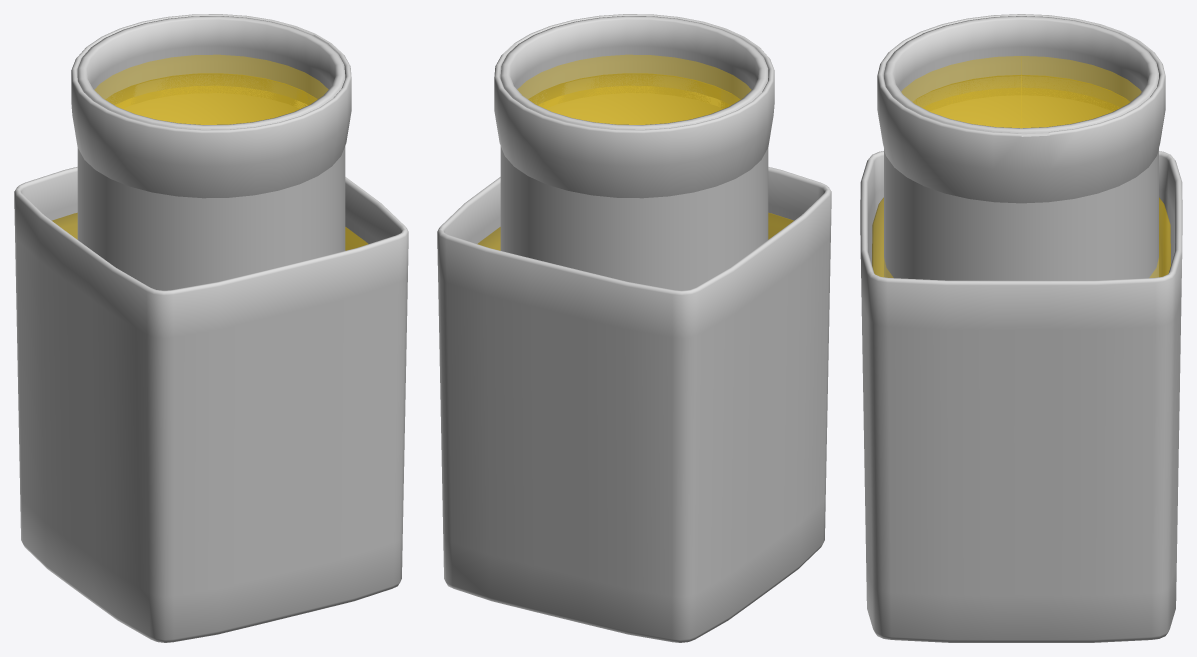
Rendered from cocktail.glb.
The picture shows the model from 3 angles, left to right: view 1: azimuth 30°, elevation 25°; view 2: azimuth 150°, elevation 25°; view 3: azimuth 270°, elevation 25°; orthographic projection. The views are drawn at different scales.
Parts seen in each view (by area): view 1: Plane, Cylinder, Circle, Circle.002, Cylinder.001, Plane.001; view 2: Plane, Cylinder, Circle, Circle.002, Cylinder.001, Plane.001; view 3: Plane, Cylinder, Circle, Circle.002, Cylinder.001, Plane.001.
Part boxes in pixels (x1,y1,x2,y2): Plane: (14, 167, 408, 642); Cylinder: (77, 16, 345, 290); Circle: (71, 14, 351, 198); Circle.002: (95, 55, 328, 124); Cylinder.001: (106, 73, 317, 124); Plane.001: (52, 213, 367, 250); Plane: (437, 167, 831, 642); Cylinder: (500, 16, 768, 290); Circle: (494, 14, 774, 198); Circle.002: (517, 55, 750, 124); Cylinder.001: (528, 73, 739, 124); Plane.001: (478, 213, 793, 250); Plane: (860, 151, 1182, 642); Cylinder: (884, 16, 1158, 280); Circle: (877, 14, 1165, 203); Circle.002: (901, 56, 1141, 128); Cylinder.001: (913, 75, 1129, 127); Plane.001: (872, 197, 1170, 277).
Size of the model in its own units: 0.3385 by 0.5898 by 0.3385.
